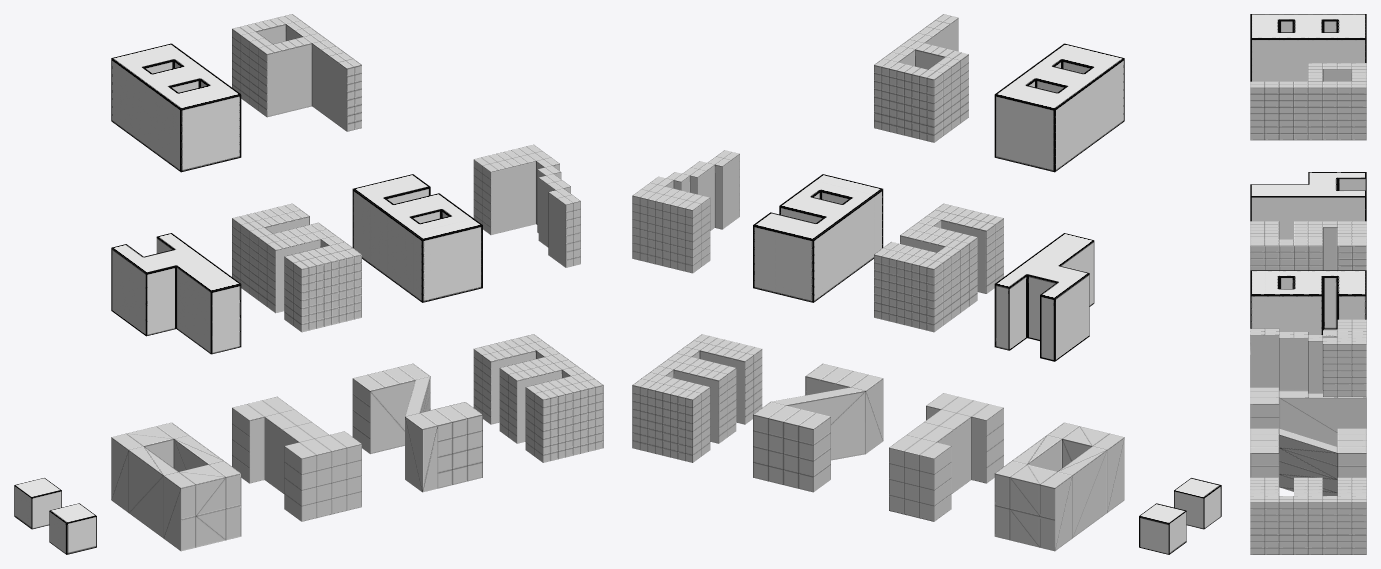
Rendered from cd4-nums.dae.
The picture shows the model from 3 angles, left to right: view 1: azimuth 30°, elevation 25°; view 2: azimuth 150°, elevation 25°; view 3: azimuth 270°, elevation 25°; orthographic projection. The views are drawn at different scales.
Visible parts, largest first — view 1: num_8, num_0, num_6, num_3, num_5, num_2, num_1, num_4, num_9, num_7, colon; view 2: num_8, num_0, num_6, num_3, num_5, num_2, num_1, num_4, num_7, num_9, colon; view 3: num_3, num_9, num_7, num_8, num_6, num_2, num_5, num_4, num_1.
Boxes of the visible parts, x1,y1,x2,y2 form: num_8: [111, 43, 241, 172]; num_0: [111, 422, 241, 551]; num_6: [352, 174, 482, 302]; num_3: [473, 334, 603, 462]; num_5: [232, 203, 361, 332]; num_2: [352, 363, 482, 492]; num_1: [232, 396, 361, 521]; num_4: [111, 233, 241, 354]; num_9: [232, 14, 361, 131]; num_7: [473, 144, 580, 267]; colon: [14, 478, 96, 554]; num_8: [994, 43, 1124, 172]; num_0: [994, 422, 1124, 551]; num_6: [753, 174, 883, 302]; num_3: [632, 334, 762, 462]; num_5: [874, 203, 1003, 332]; num_2: [753, 363, 883, 492]; num_1: [889, 393, 1003, 521]; num_4: [994, 233, 1094, 361]; num_7: [632, 150, 739, 273]; num_9: [874, 14, 968, 142]; colon: [1139, 478, 1221, 554]; num_3: [1250, 477, 1366, 554]; num_9: [1250, 63, 1366, 140]; num_7: [1250, 319, 1366, 396]; num_8: [1250, 14, 1366, 81]; num_6: [1250, 270, 1366, 334]; num_2: [1250, 428, 1366, 495]; num_5: [1250, 221, 1366, 270]; num_4: [1250, 172, 1366, 239]; num_1: [1250, 387, 1366, 446].
Bounding box in the file's own units: 8.75 × 2 × 7.
Materials: 11 (11 with a texture image).
